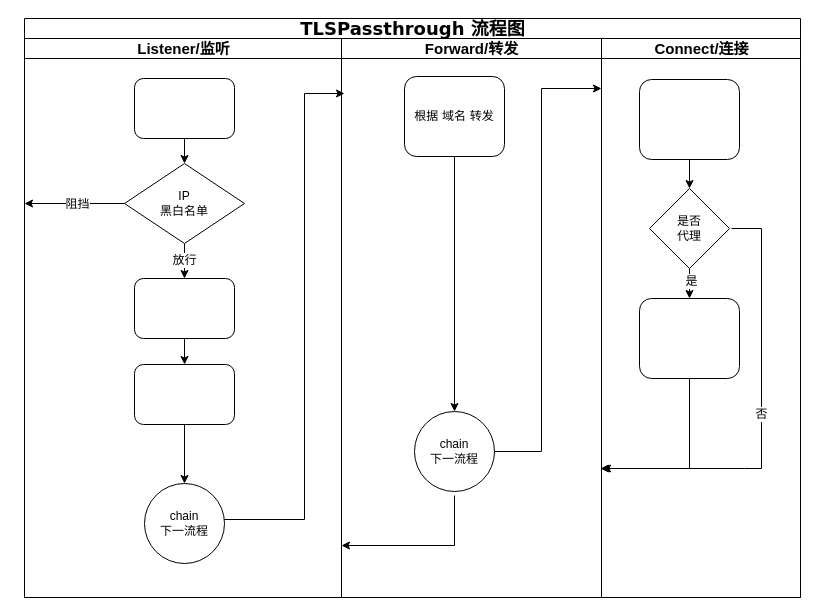
The diagram is 818 pixels wide and 615 high, and some of its shapes have lost their labels. The shapes that lost their labels are listed below. From the top down, each one's centre as x and y in pixels, then its label:
the point at 184,108: Accept TCP connections
the point at 689,119: Connect 连接
the point at 184,308: 四层限流
the point at 689,338: Connect 通过Socks或者HTTP代理
the point at 184,394: sni 获取访问域名
